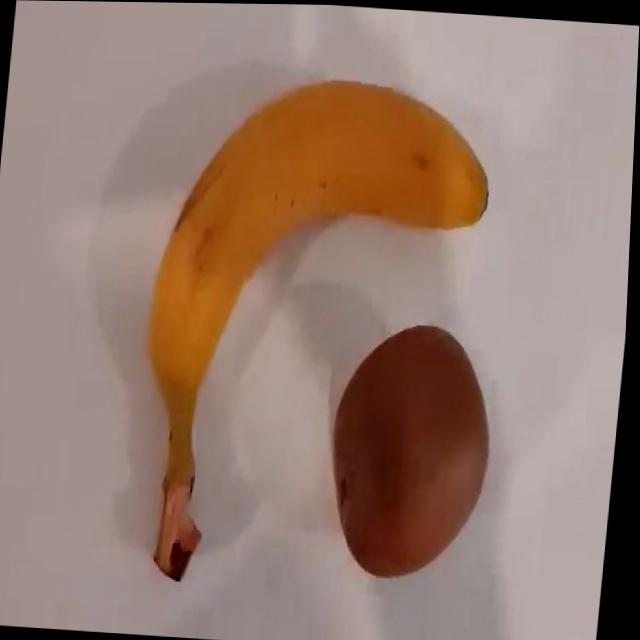Banana: (129, 67, 501, 598)
